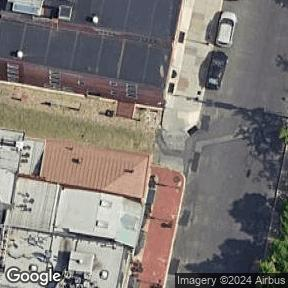vegetation: (280, 125, 288, 145)
